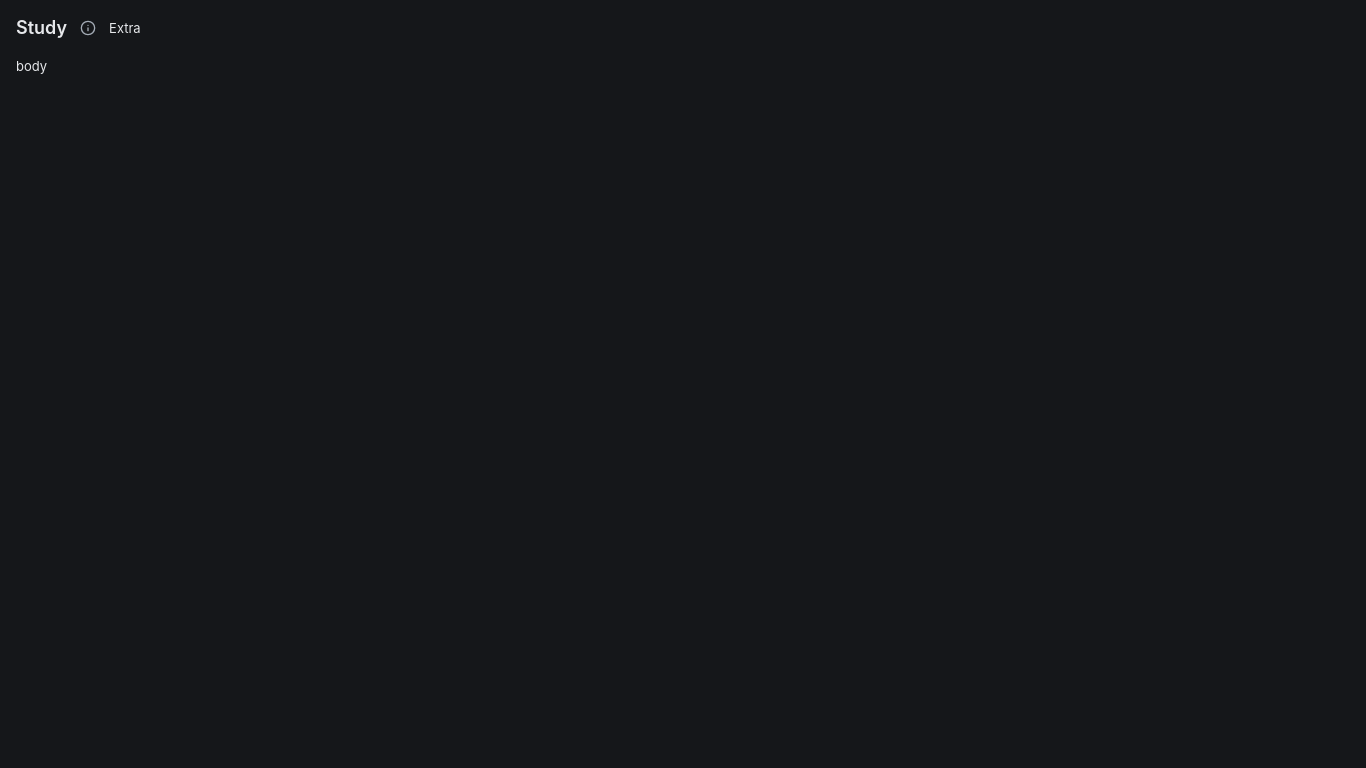
Test: Page › with info shows an i button and the help in a popover, not as an intro
Expected: the heading "Study" is shown, [16,16,67,40]
Expected: the text "Extra" is shown, [109,19,141,37]
Click the button with class "info-btn" at (88, 28), box [75,15,101,41]
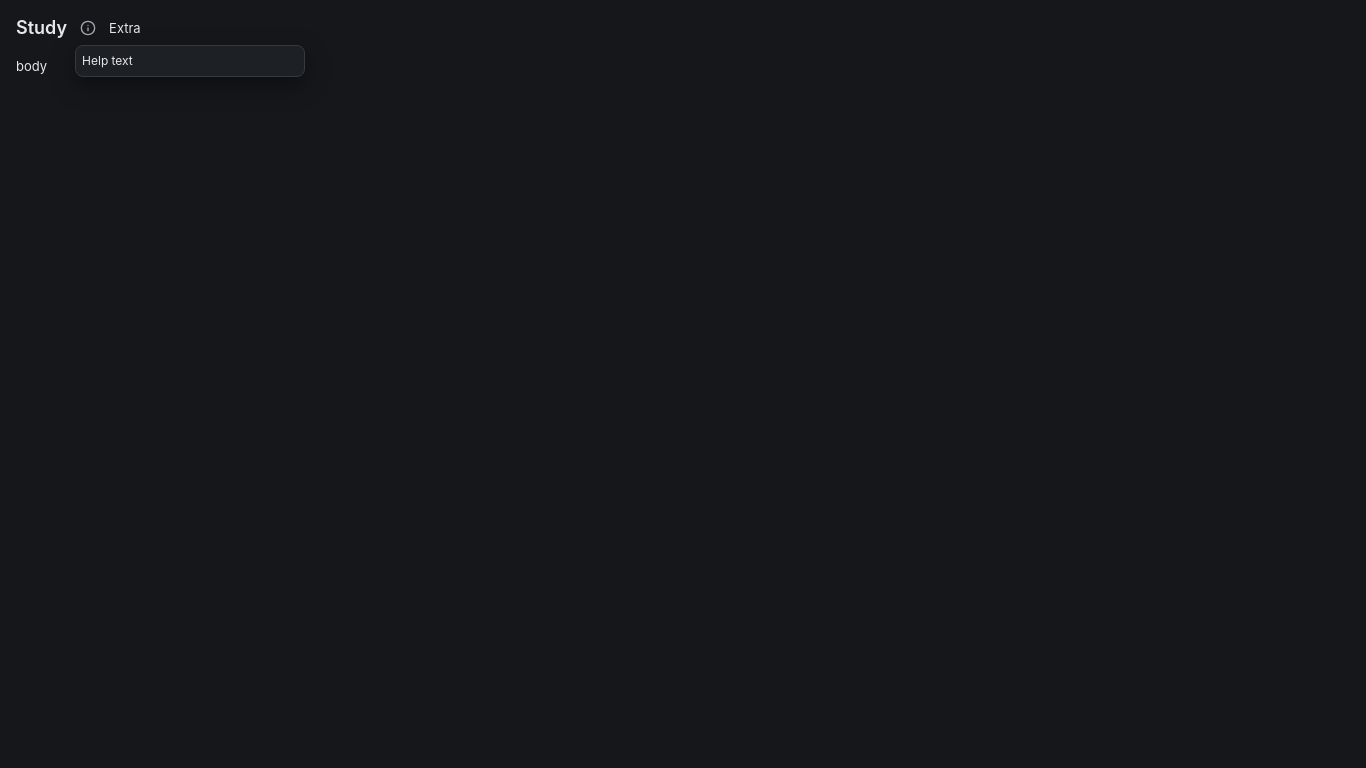
Now the dialog with class "info-pop" reads "Help text"
Press the mouse on the text "Help text" at (107, 60), box [82,53,133,68]
Now the dialog with class "info-pop" is shown, box [75,45,305,77]
Press the mouse on the element showing "Study Extra body Help text" at (683, 384), box [0,0,1365,767]
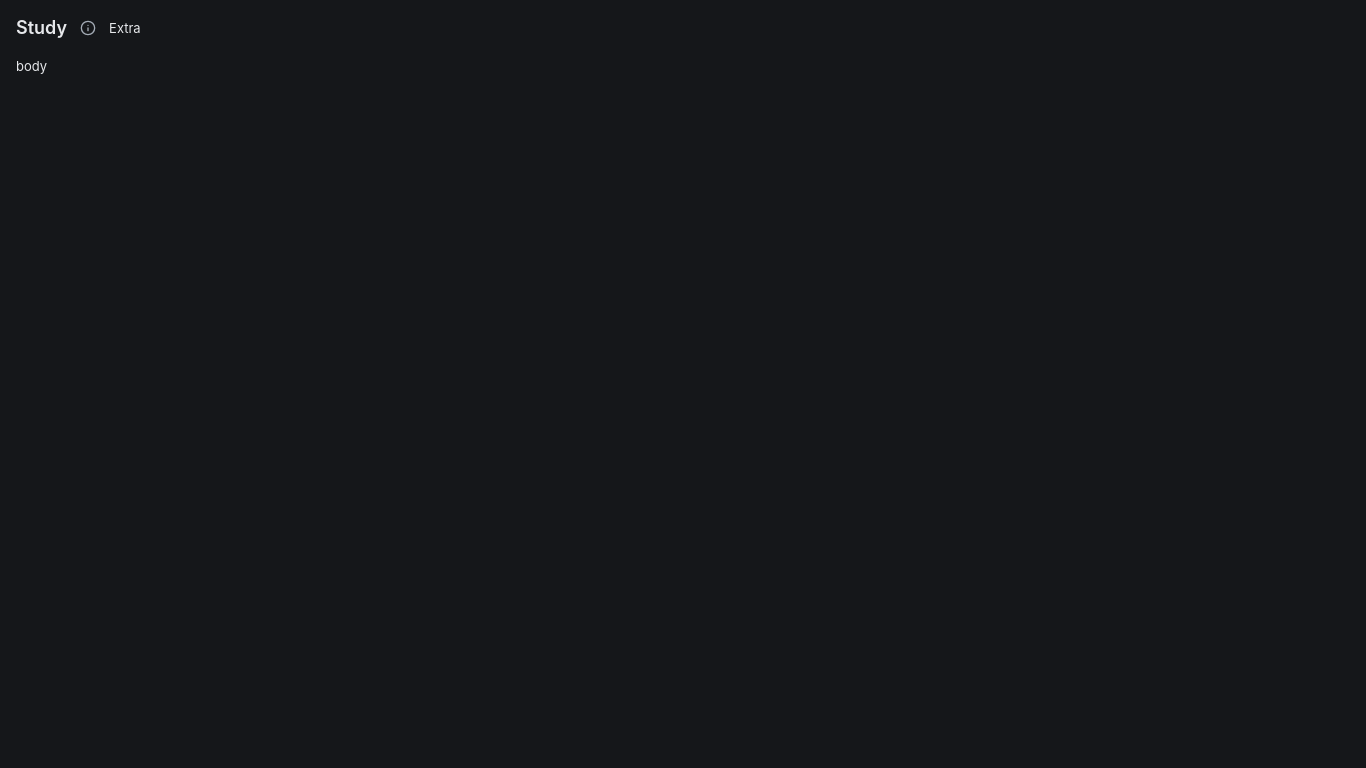
Now the dialog with class "info-pop" is gone
